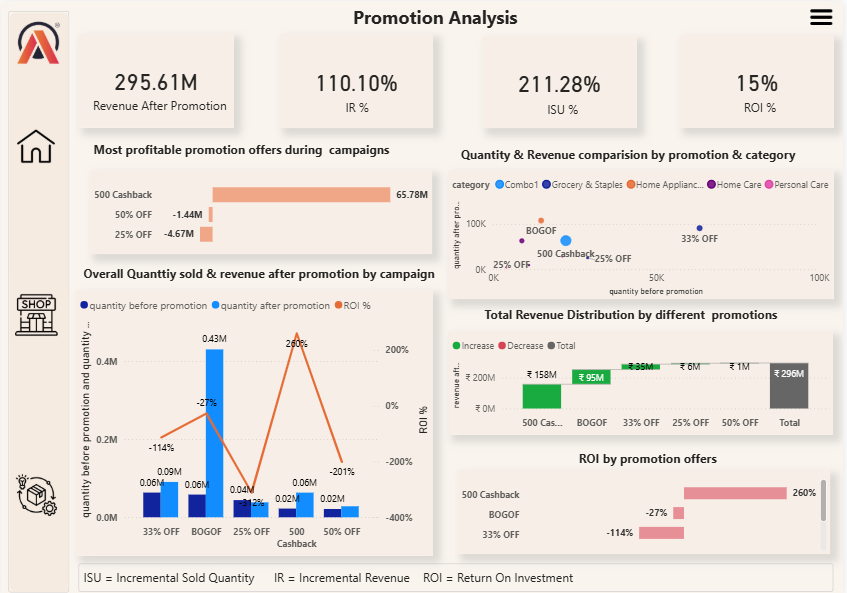

Layout of this report page (visuals, bound fields, positions):
{"tool":"powerbi","page":{"name":"Promotion Analysis view","canvas":[1123,794],"ordinal":2},"visuals":[{"type":"card","fields":{"Values":[" Key measures.Total_revenue_after_promo"]},"box":[103.7,43.9,207,125.4],"z":0,"group":"g4"},{"type":"card","fields":{"Values":[" Key measures.IR %"]},"box":[371.1,43.9,204.9,126.1],"z":0,"group":"g3"},{"type":"card","fields":{"Values":[" Key measures.ROI %"]},"box":[904.3,45.7,205.6,124.3],"z":0,"group":"g2"},{"type":"group","id":"g1","title":"ATV","box":[641.4,47.1,205.7,122.9],"z":0},{"type":"card","fields":{"Values":[" Key measures.ISU %"]},"box":[641.4,47.1,206,123.6],"z":0,"group":"g1"},{"type":"textbox","box":[107.9,125.6,202.6,38.3],"z":1000,"group":"g4"},{"type":"textbox","box":[399.4,128.5,149.7,41.6],"z":1000,"group":"g3"},{"type":"textbox","box":[926.6,129.6,170.6,40.5],"z":1000,"group":"g2"},{"type":"textbox","box":[663.7,130.6,170.9,40.3],"z":1000,"group":"g1"},{"type":"textbox","title":"incremental revenue per city title","box":[607.8,187.5,514.7,37.2],"z":1000},{"type":"textbox","title":"last 5 city by promotion lift title ","box":[575.4,401.6,529.6,39.1],"z":2000},{"type":"waterfallChart","fields":{"Category":["fact_events.promo_type"],"Y":["Sum(fact_events.revenue_after_promo)"]},"box":[597.1,440,512.9,138.6],"z":3000},{"type":"scatterChart","fields":{"Category":["fact_events.promo_type"],"Series":["dim_products.category"],"Size":[" Key measures.Total_revenue_after_promo"],"X":[" Key measures.Total_quantity_before_promo"],"Y":[" Key measures.Total_quantity_after_promo"]},"box":[597.2,224.8,513.4,172.9],"z":4000},{"type":"shape","box":[9.3,13.3,81.1,775.4],"z":5000},{"type":"textbox","title":"Heading title","box":[99.7,0,952.3,43.9],"z":6000},{"type":"group","id":"g2","title":"ATV","box":[904.3,45.7,205.7,124.3],"z":7000},{"type":"group","id":"g3","title":"IR %","box":[371.1,43.9,204.8,125],"z":8000},{"type":"group","id":"g4","title":"total revenue after promotion","box":[103.7,43.9,206.1,125],"z":9000},{"type":"textbox","title":"last 5 city by promotion lift title ","box":[607.1,592.9,515.7,42.9],"z":10000},{"type":"textbox","box":[118.6,181.4,457.1,42.9],"z":11000},{"type":"clusteredBarChart","title":"bottom 5 city by ISU %","fields":{"Category":["fact_events.promo_type"],"Y":[" Key measures.ROI %"]},"box":[607.8,625.1,497.4,113],"z":12000},{"type":"barChart","title":"Top 5 City by Incremental Revenue","fields":{"Category":["fact_events.promo_type"],"Y":[" Key measures.Promotion Profit"]},"box":[118.6,224.3,457.1,112.9],"z":13000},{"type":"textbox","title":"incremental revenue per city title","box":[104.3,347.1,492.9,37.1],"z":14000},{"type":"textbox","title":"abbreviation box","box":[103.7,750.1,1006.8,37.2],"z":15000},{"type":"image","title":"button 1","box":[1065.5,0,57.1,43.3],"z":18000},{"type":"lineClusteredColumnComboChart","fields":{"Category":["fact_events.promo_type"],"Y":[" Key measures.Total_quantity_before_promo"," Key measures.Total_quantity_after_promo"],"Y2":[" Key measures.ROI %"]},"box":[100,384.3,475.7,354.3],"z":23000},{"type":"image","box":[12.9,21.4,74.3,67.1],"z":24000},{"type":"image","box":[17.1,160,60,67.1],"z":25000},{"type":"image","box":[10,384.3,74.3,67.1],"z":26000},{"type":"image","box":[10,625.7,74.3,67.1],"z":27000}]}

Visuals, with their boxes in screenshot pixels (x1, y1, x2, y2), scaled from the page's 1123x794 canvas onto the 847x593 screenshot:
card -  Key measures.Total_revenue_after_promo: box(78, 33, 234, 126)
card -  Key measures.IR %: box(280, 33, 434, 127)
card -  Key measures.ROI %: box(682, 34, 837, 127)
"ATV" group: box(484, 35, 639, 127)
card -  Key measures.ISU %: box(484, 35, 639, 127)
textbox: box(81, 94, 234, 122)
textbox: box(301, 96, 414, 127)
textbox: box(699, 97, 828, 127)
textbox: box(501, 98, 629, 128)
"incremental revenue per city title" textbox: box(458, 140, 846, 168)
"last 5 city by promotion lift title " textbox: box(434, 300, 833, 329)
waterfallChart - fact_events.promo_type x Sum(fact_events.revenue_after_promo): box(450, 329, 837, 432)
scatterChart - fact_events.promo_type x dim_products.category: box(450, 168, 838, 297)
shape: box(7, 10, 68, 589)
"Heading title" textbox: box(75, 0, 793, 33)
"ATV" group: box(682, 34, 837, 127)
"IR %" group: box(280, 33, 434, 126)
"total revenue after promotion" group: box(78, 33, 234, 126)
"last 5 city by promotion lift title " textbox: box(458, 443, 846, 475)
textbox: box(89, 135, 434, 168)
"bottom 5 city by ISU %" clusteredBarChart: box(458, 467, 834, 551)
"Top 5 City by Incremental Revenue" barChart: box(89, 168, 434, 252)
"incremental revenue per city title" textbox: box(79, 259, 450, 287)
"abbreviation box" textbox: box(78, 560, 838, 588)
"button 1" image: box(804, 0, 846, 32)
lineClusteredColumnComboChart - fact_events.promo_type x  Key measures.Total_quantity_before_promo: box(75, 287, 434, 552)
image: box(10, 16, 66, 66)
image: box(13, 119, 58, 170)
image: box(8, 287, 64, 337)
image: box(8, 467, 64, 517)
